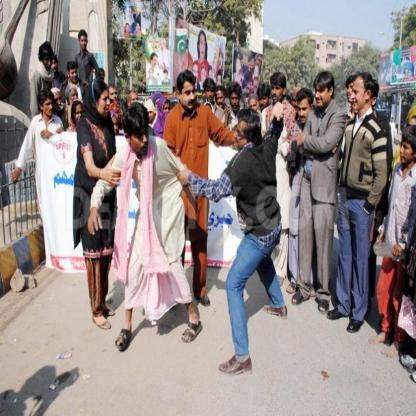face: (131, 128, 149, 155), (351, 83, 368, 111), (235, 124, 248, 151), (182, 85, 196, 109), (298, 101, 311, 124), (316, 86, 330, 107), (99, 94, 111, 118), (400, 142, 413, 164), (272, 85, 284, 103), (293, 100, 304, 118), (213, 52, 220, 77), (44, 100, 54, 117), (259, 96, 269, 112), (54, 96, 64, 112), (347, 84, 355, 103), (231, 95, 240, 111), (254, 72, 260, 95), (237, 64, 243, 87), (76, 108, 84, 125), (216, 94, 225, 109), (44, 57, 53, 72), (206, 89, 215, 103), (70, 69, 79, 83), (70, 92, 79, 106), (200, 39, 206, 59), (112, 120, 119, 135), (80, 37, 88, 50), (250, 102, 258, 114), (163, 105, 171, 117), (147, 111, 155, 123), (131, 96, 139, 108), (110, 91, 118, 103), (51, 59, 58, 72), (245, 85, 251, 97), (411, 118, 416, 132), (218, 77, 223, 89), (202, 71, 207, 83), (155, 39, 160, 51), (194, 68, 198, 82), (153, 57, 158, 68), (156, 102, 161, 111), (209, 73, 213, 83), (100, 73, 105, 81), (161, 41, 165, 50), (129, 11, 133, 20), (150, 39, 154, 48), (251, 82, 254, 93), (150, 71, 154, 79), (174, 90, 178, 97), (165, 74, 169, 80), (137, 25, 141, 31), (137, 6, 140, 14), (97, 72, 100, 80), (178, 91, 181, 98), (127, 27, 130, 32)
